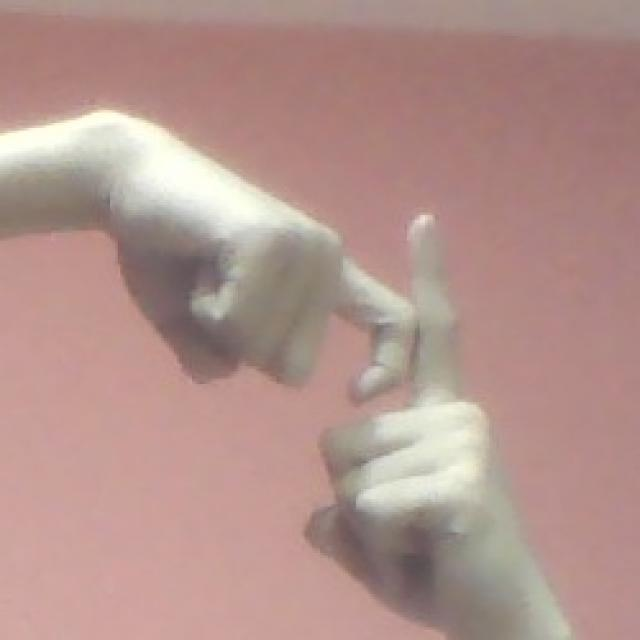Alphabet-K: (115, 108, 527, 629)
